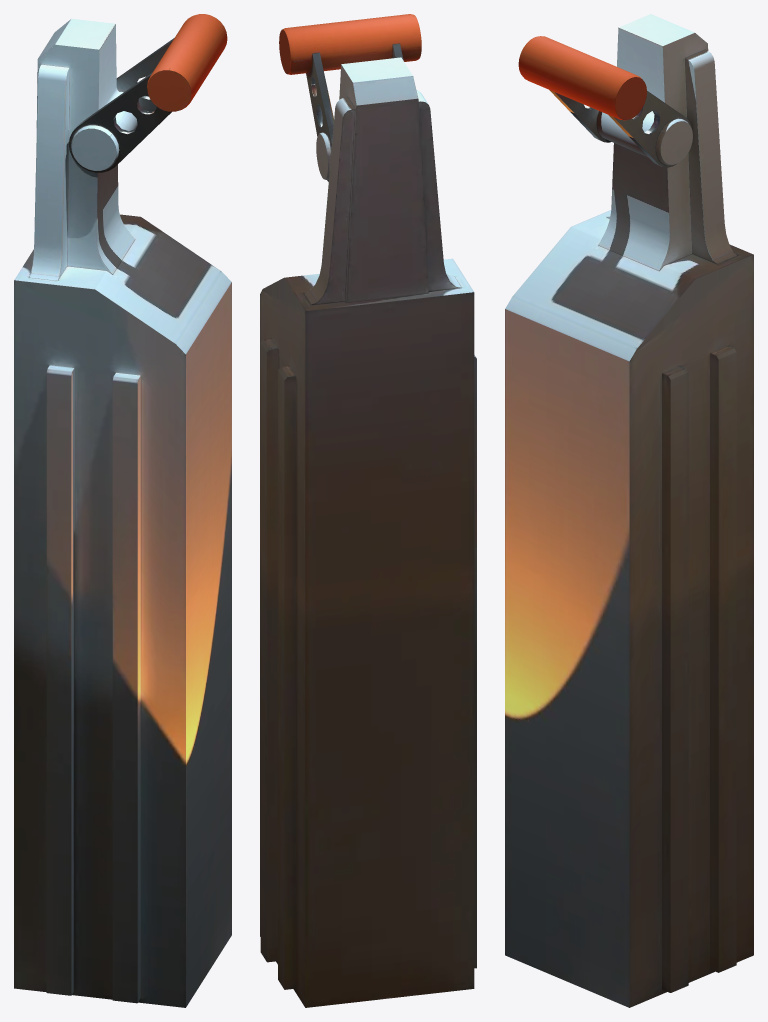
File: boot_up_switch.glb
The picture shows the model from 3 angles, left to right: view 1: azimuth 30°, elevation 25°; view 2: azimuth 150°, elevation 25°; view 3: azimuth 270°, elevation 25°; orthographic projection.
Visible parts, largest first — view 1: intro switch stand, SW_intro switch; view 2: intro switch stand, SW_intro switch; view 3: intro switch stand, SW_intro switch.
Boxes of the visible parts, box(x1,y1,x2,y2) form: intro switch stand: box(14, 19, 231, 1007); SW_intro switch: box(68, 14, 227, 172); intro switch stand: box(260, 57, 476, 1007); SW_intro switch: box(279, 14, 421, 181); intro switch stand: box(505, 14, 753, 1007); SW_intro switch: box(518, 36, 691, 167).
Bounding box in the file's own units: 0.2397 × 0.9763 × 0.2397.
2 materials, 2 textured.
